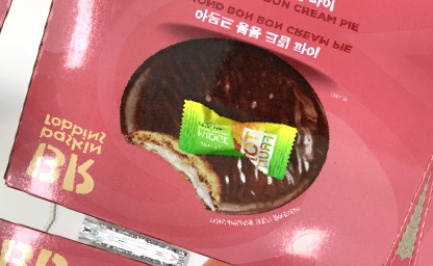jeli: (166, 87, 303, 188)
